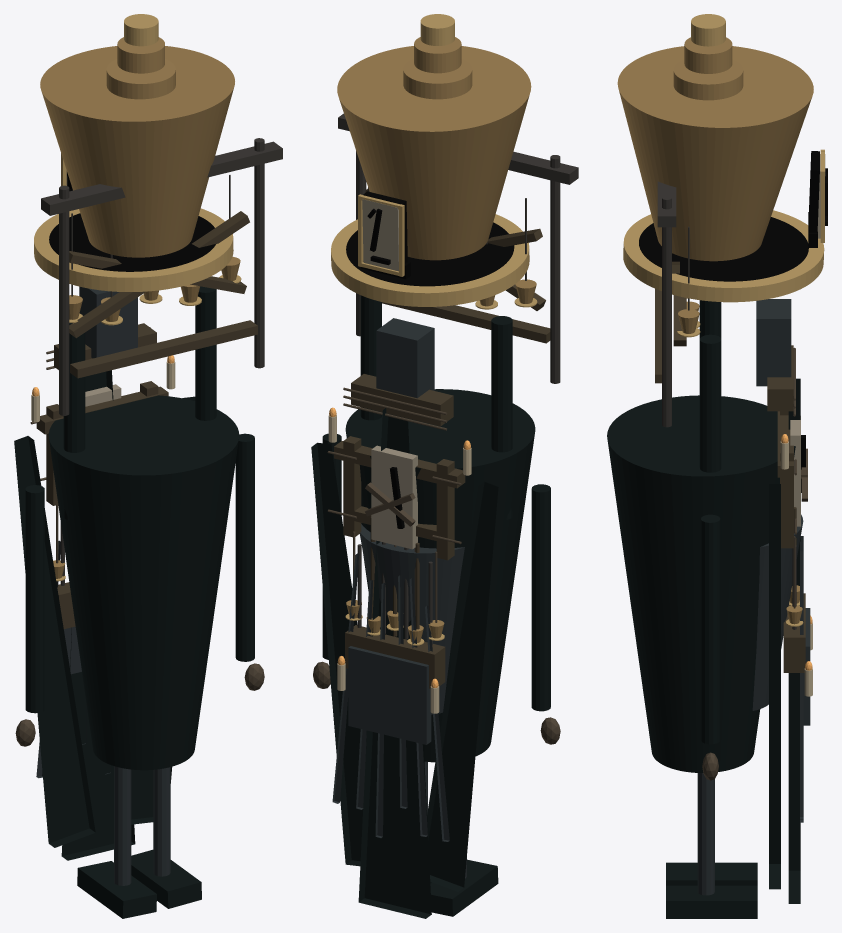
The model's file is bell_saint_v6c_hat_fix.glb.
The picture shows the model from 3 angles, left to right: view 1: azimuth 30°, elevation 25°; view 2: azimuth 150°, elevation 25°; view 3: azimuth 270°, elevation 25°; orthographic projection.
Visible parts, largest first — view 1: BS6C_RobeMainCentered, BS6C_BellHead_Main, BS6C_LeftOuterRobeFall, BS6C_BellHeadOuterLip, BS6C_LeftForeSleeve, BS6C_RightForeSleeve, BS6C_FrontCentralBladePanel, BS6C_BackLowCrossbarCentered, BS6C_BellHeadInnerLipShadow, BS6C_BackTopCrossbarCentered, BS6C_LeftFoot, BS6C_RightUpperSleeve (+18 smaller); view 2: BS6C_BellHead_Main, BS6C_RobeMainCentered, BS6C_LeftOuterRobeFall, BS6C_FrontCentralBladePanel, BS6C_RightOuterRobeFall, BS6C_LowerAltarFrontPlate, BS6C_RobeInnerShadowCentered, BS6C_BellHeadOuterLip, BS6C_LeftForeSleeve, BS6C_CentralNeckBlock, BS6C_BellHeadInnerLipShadow, BS6C_CenterBoundPlate (+25 smaller); view 3: BS6C_RobeMainCentered, BS6C_BellHead_Main, BS6C_BellHeadOuterLip, BS6C_RightOuterRobeFall, BS6C_RightForeSleeve, BS6C_BellHeadInnerLipShadow, BS6C_FrontCentralBladePanel, BS6C_RightUpperSleeve, BS6C_RobeInnerShadowCentered, BS6C_RightFoot, BS6C_CentralNeckBlock, BS6C_BackRightPost (+17 smaller).
Boxes of the visible parts, x1=… form: BS6C_RobeMainCentered: x1=48, y1=395, x2=239, y2=770; BS6C_BellHead_Main: x1=40, y1=46, x2=234, y2=257; BS6C_LeftOuterRobeFall: x1=14, y1=436, x2=95, y2=847; BS6C_BellHeadOuterLip: x1=34, y1=208, x2=233, y2=291; BS6C_LeftForeSleeve: x1=25, y1=485, x2=44, y2=713; BS6C_RightForeSleeve: x1=235, y1=433, x2=254, y2=661; BS6C_FrontCentralBladePanel: x1=61, y1=370, x2=135, y2=860; BS6C_BackLowCrossbarCentered: x1=70, y1=320, x2=257, y2=378; BS6C_BellHeadInnerLipShadow: x1=49, y1=213, x2=215, y2=271; BS6C_BackTopCrossbarCentered: x1=41, y1=141, x2=282, y2=215; BS6C_LeftFoot: x1=77, y1=861, x2=156, y2=918; BS6C_RightUpperSleeve: x1=195, y1=286, x2=216, y2=420; BS6C_BellHead_Main: x1=337, y1=46, x2=531, y2=260; BS6C_RobeMainCentered: x1=345, y1=389, x2=535, y2=762; BS6C_LeftOuterRobeFall: x1=427, y1=482, x2=498, y2=891; BS6C_FrontCentralBladePanel: x1=358, y1=408, x2=431, y2=918; BS6C_RightOuterRobeFall: x1=311, y1=442, x2=366, y2=866; BS6C_LowerAltarFrontPlate: x1=348, y1=646, x2=431, y2=744; BS6C_RobeInnerShadowCentered: x1=360, y1=524, x2=464, y2=714; BS6C_BellHeadOuterLip: x1=331, y1=214, x2=529, y2=306; BS6C_LeftForeSleeve: x1=531, y1=484, x2=550, y2=711; BS6C_CentralNeckBlock: x1=376, y1=318, x2=434, y2=398; BS6C_BellHeadInnerLipShadow: x1=346, y1=222, x2=514, y2=286; BS6C_CenterBoundPlate: x1=371, y1=445, x2=417, y2=549; BS6C_RobeMainCentered: x1=607, y1=395, x2=795, y2=772; BS6C_BellHead_Main: x1=617, y1=46, x2=813, y2=261; BS6C_BellHeadOuterLip: x1=623, y1=210, x2=824, y2=302; BS6C_RightOuterRobeFall: x1=769, y1=484, x2=780, y2=889; BS6C_RightForeSleeve: x1=700, y1=514, x2=720, y2=744; BS6C_BellHeadInnerLipShadow: x1=639, y1=217, x2=808, y2=281; BS6C_FrontCentralBladePanel: x1=788, y1=378, x2=800, y2=903; BS6C_RightUpperSleeve: x1=699, y1=334, x2=721, y2=472; BS6C_RobeInnerShadowCentered: x1=752, y1=514, x2=803, y2=710; BS6C_RightFoot: x1=666, y1=885, x2=757, y2=918; BS6C_CentralNeckBlock: x1=756, y1=299, x2=791, y2=386; BS6C_BackRightPost: x1=662, y1=195, x2=671, y2=427.
Bounding box in the file's own units: 1.32 × 4.45 × 1.01.
